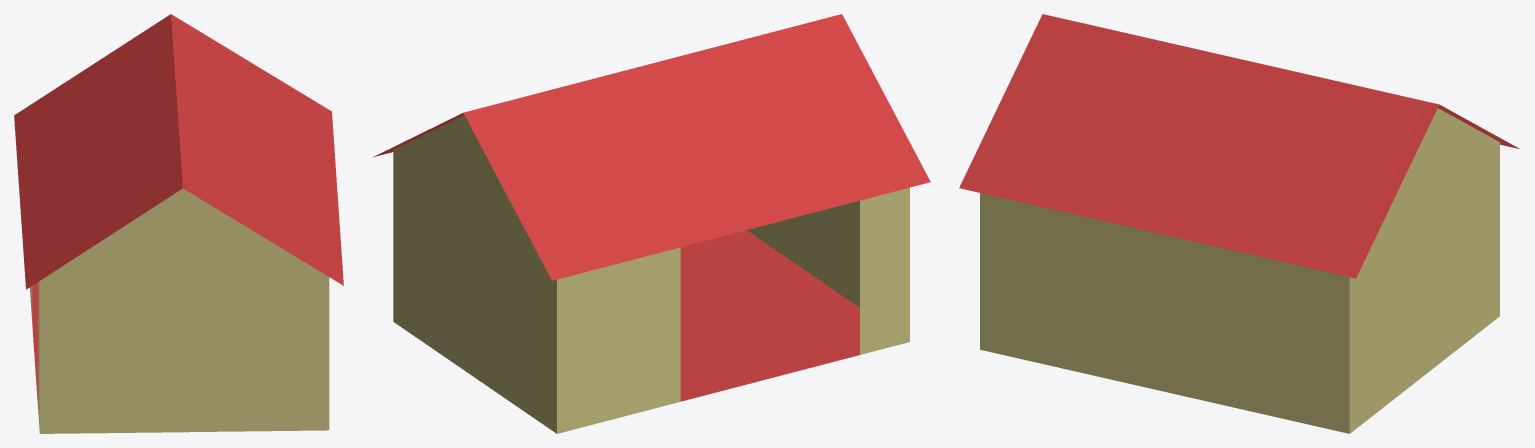
3 renders of one model, left to right at view 1: azimuth 30°, elevation 25°; view 2: azimuth 150°, elevation 25°; view 3: azimuth 270°, elevation 25°, orthographic. The views are drawn at different scales.
Bounding box in the file's own units: 16.78 × 18.14 × 9.72.
